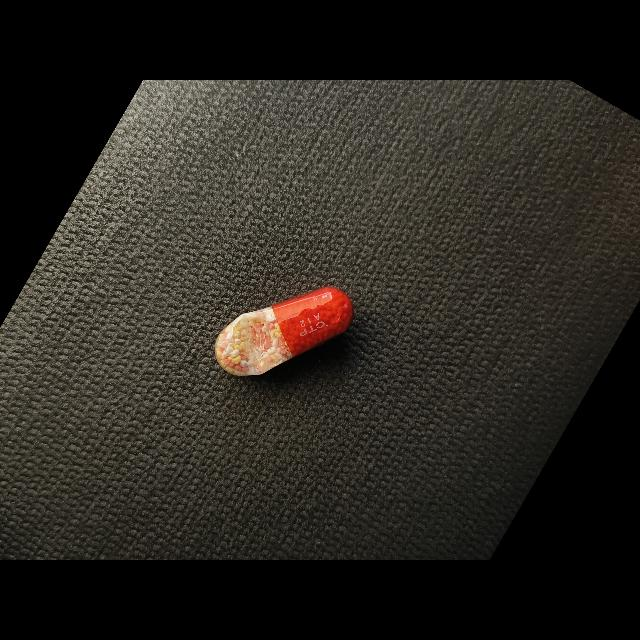Defective Capsule: (215, 287, 354, 376)
